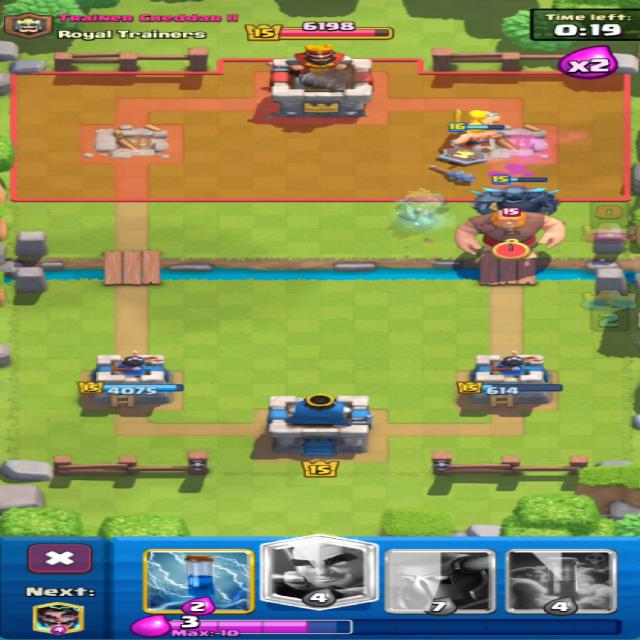Enemy-Giant: (456, 209, 564, 253)
Enemy-KingTower-Activated: (269, 46, 372, 116)
Player-Barbarian: (452, 125, 502, 146), (452, 109, 499, 124)
Player-KingTower: (266, 393, 372, 455)
Player-PEKKA: (472, 185, 558, 215)
Player-PrincessTower: (78, 351, 183, 407), (458, 352, 561, 406)
Player-RoyalGhost-Invisible: (398, 188, 444, 221)
